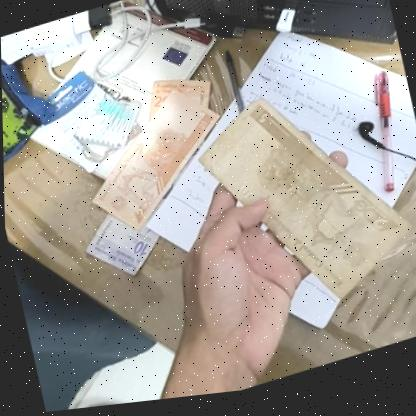five-back-vef: (187, 66, 416, 342)
twenty-back-vef: (67, 65, 238, 247)
